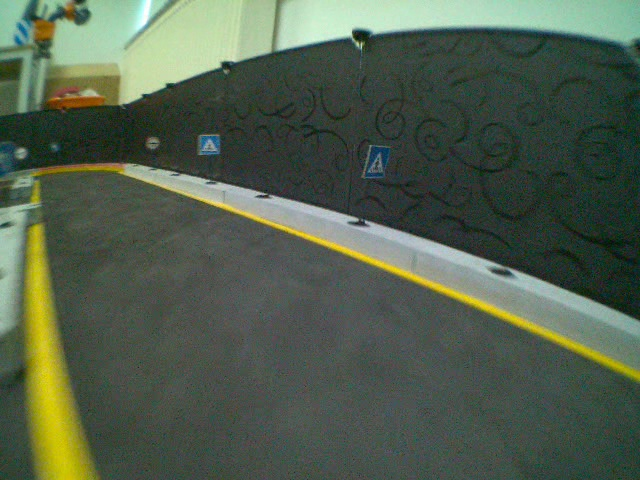Check: (145, 134, 162, 150)
crossing: (362, 143, 391, 178), (197, 133, 219, 156)
